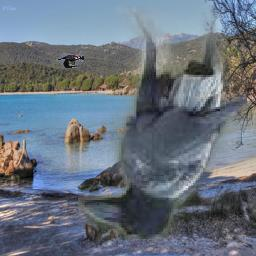Crow: (79, 7, 248, 240)
Woodpecker: (56, 54, 84, 68)
